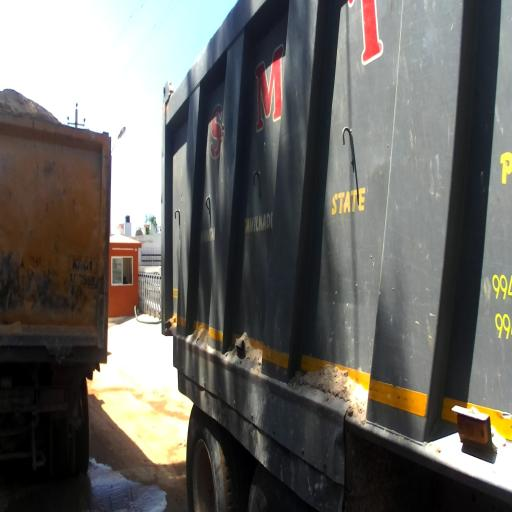street_light_0: (111, 126, 126, 151)
